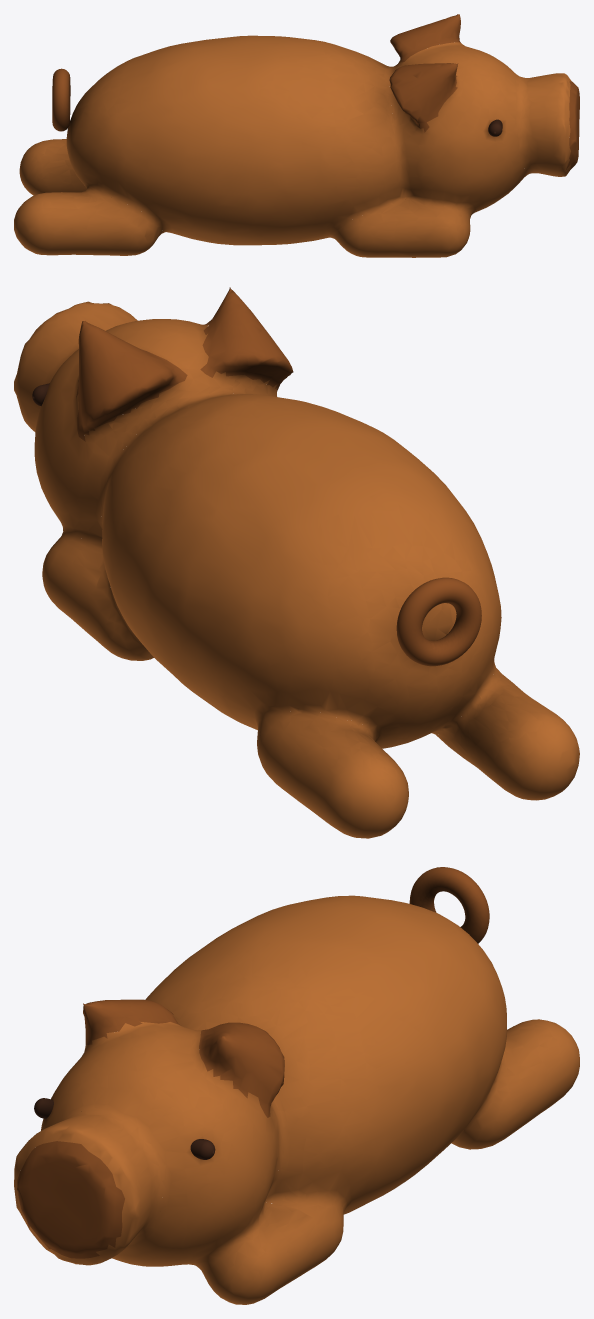
The model's file is har-ni-nagot-vegetariskt.glb.
3 views of the same model, one above another, from view 1: azimuth 30°, elevation 25°; view 2: azimuth 150°, elevation 25°; view 3: azimuth 270°, elevation 25° (orthographic). The views are drawn at different scales.
Visible parts, largest first — view 1: leitao__r0, leitao__r1; view 2: leitao__r0, leitao__r1; view 3: leitao__r0, leitao__r1.
Part boxes in pixels (x1,y1,x2,y2): leitao__r0: [14, 14, 579, 257]; leitao__r1: [52, 68, 70, 131]; leitao__r0: [14, 287, 579, 838]; leitao__r1: [396, 577, 481, 666]; leitao__r0: [14, 895, 579, 1304]; leitao__r1: [409, 867, 489, 943].
Size of the model in its own units: 0.9173 by 0.3741 by 0.6774.
